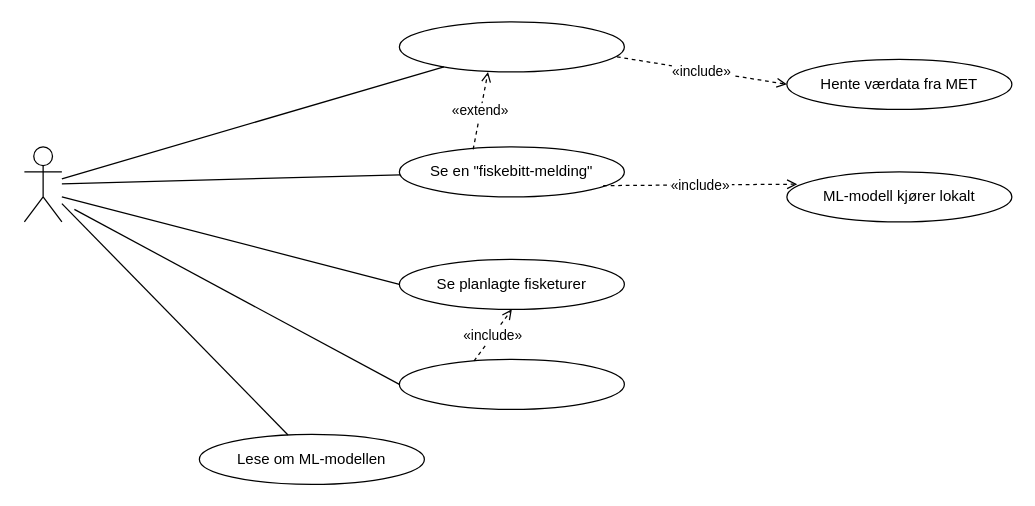
Some shapes in this 1035 by 506 pixel diagram are drawn without their labels. Each missing label, with the centre of its shape:
Bruker: point (42, 184)
Planlegge en fisketur: point (511, 383)
Se været der jeg er nå: point (511, 46)
